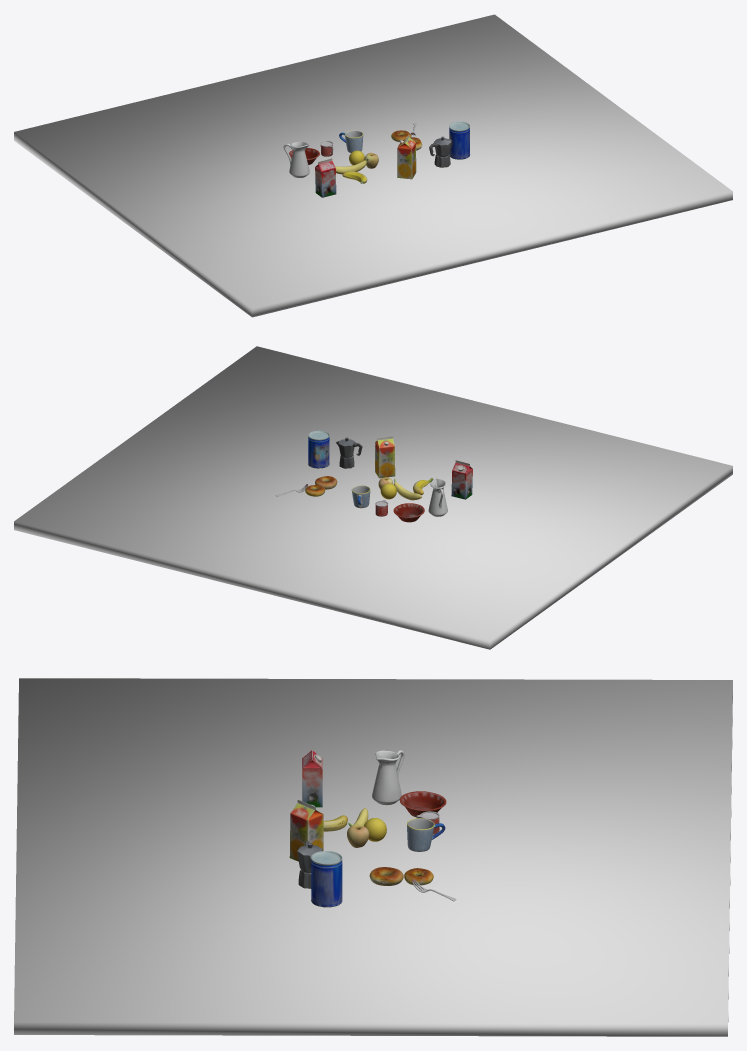
The model's file is rest3d.glb.
3 renders of one model, top to bottom at view 1: azimuth 30°, elevation 25°; view 2: azimuth 150°, elevation 25°; view 3: azimuth 270°, elevation 25°, orthographic. The views are drawn at different scales.
Visible parts, largest first — view 1: ground, World; view 2: ground, World; view 3: ground, World.
Boxes of the visible parts, left/top/right/bottom form: ground: left=14, top=14, right=732, bottom=317; World: left=283, top=121, right=470, bottom=197; ground: left=14, top=346, right=732, bottom=649; World: left=276, top=430, right=472, bottom=522; ground: left=14, top=678, right=732, bottom=1036; World: left=289, top=747, right=456, bottom=907.
Bounding box in the file's own units: 2.89 × 0.2708 × 2.52.
